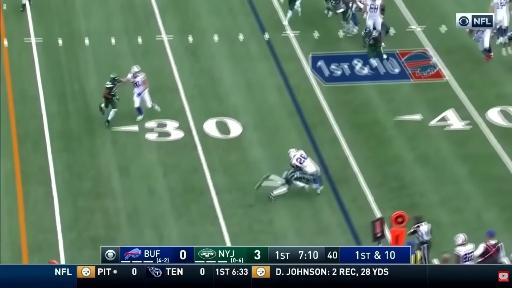Helmet: (454, 234, 467, 245), (110, 73, 119, 83), (131, 65, 140, 73), (363, 28, 371, 37), (288, 149, 297, 156)
Jersey: (290, 150, 317, 174), (454, 244, 475, 264), (284, 170, 312, 185), (128, 72, 146, 93), (366, 0, 382, 19), (368, 30, 382, 49), (491, 0, 509, 14), (330, 0, 348, 12), (106, 82, 118, 98), (474, 30, 490, 42), (506, 32, 512, 42)
Player: (122, 65, 160, 121), (255, 169, 313, 201), (288, 149, 323, 193), (99, 74, 121, 126), (325, 0, 357, 34), (490, 0, 509, 44), (363, 0, 385, 37), (366, 30, 387, 67), (469, 30, 493, 61), (454, 234, 475, 264), (284, 0, 301, 25), (505, 32, 511, 54)
